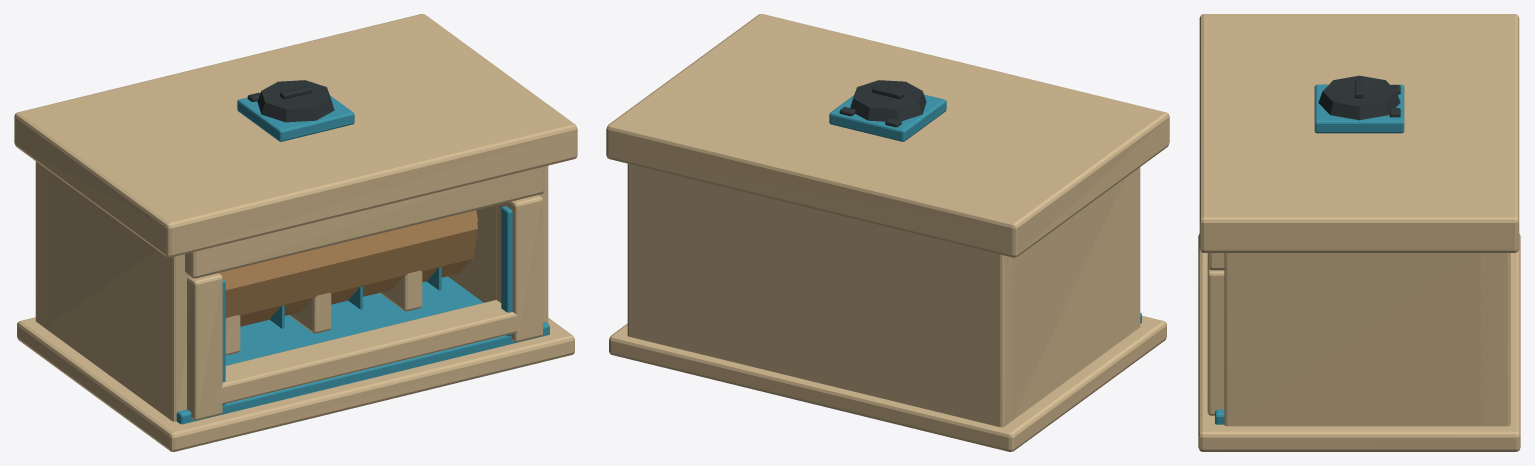
The model's file is cistern.source.glb.
3 views of the same model, side by side, from view 1: azimuth 30°, elevation 25°; view 2: azimuth 150°, elevation 25°; view 3: azimuth 270°, elevation 25° (orthographic). The views are drawn at different scales.
Parts seen in each view (by area): view 1: cistern-top-slab-mesh, cistern-left-wall-mesh, cistern-base-plinth-mesh, cistern-tank-vessel-mesh, cistern-reveal-sill-mesh, cistern-base-inset-mesh, cistern-front-lintel-mesh, cistern-left-reveal-pier-mesh, cistern-right-reveal-pier-mesh, cistern-right-wall-mesh, cistern-rear-wall-mesh, cistern-hatch-cap-mesh (+5 smaller); view 2: cistern-top-slab-mesh, cistern-rear-wall-mesh, cistern-left-wall-mesh, cistern-base-plinth-mesh, cistern-hatch-cap-mesh, cistern-hatch-curb-mesh; view 3: cistern-top-slab-mesh, cistern-right-wall-mesh, cistern-base-plinth-mesh, cistern-rear-wall-mesh, cistern-hatch-cap-mesh, cistern-right-reveal-pier-mesh, cistern-hatch-curb-mesh.
Boxes of the visible parts, left/top/right/bottom form: cistern-top-slab-mesh: left=14, top=14, right=577, bottom=257; cistern-left-wall-mesh: left=49, top=171, right=188, bottom=421; cistern-base-plinth-mesh: left=17, top=317, right=574, bottom=451; cistern-tank-vessel-mesh: left=219, top=210, right=477, bottom=326; cistern-reveal-sill-mesh: left=208, top=300, right=517, bottom=405; cistern-base-inset-mesh: left=176, top=276, right=549, bottom=424; cistern-front-lintel-mesh: left=185, top=166, right=544, bottom=278; cistern-left-reveal-pier-mesh: left=187, top=273, right=222, bottom=420; cistern-right-reveal-pier-mesh: left=496, top=195, right=542, bottom=342; cistern-right-wall-mesh: left=448, top=165, right=548, bottom=323; cistern-rear-wall-mesh: left=35, top=161, right=49, bottom=330; cistern-hatch-cap-mesh: left=257, top=80, right=334, bottom=122; cistern-top-slab-mesh: left=606, top=14, right=1169, bottom=257; cistern-rear-wall-mesh: left=627, top=163, right=1017, bottom=427; cistern-left-wall-mesh: left=1012, top=167, right=1140, bottom=420; cistern-base-plinth-mesh: left=609, top=316, right=1166, bottom=451; cistern-hatch-cap-mesh: left=850, top=80, right=926, bottom=121; cistern-hatch-curb-mesh: left=829, top=94, right=946, bottom=141; cistern-top-slab-mesh: left=1199, top=14, right=1519, bottom=252; cistern-right-wall-mesh: left=1224, top=253, right=1491, bottom=426; cistern-base-plinth-mesh: left=1198, top=233, right=1520, bottom=451; cistern-rear-wall-mesh: left=1480, top=253, right=1510, bottom=426; cistern-hatch-cap-mesh: left=1318, top=75, right=1400, bottom=120; cistern-right-reveal-pier-mesh: left=1207, top=266, right=1224, bottom=415; cistern-hatch-curb-mesh: left=1314, top=84, right=1404, bottom=133.
Bounding box in the file's own units: 3.98 × 2.38 × 2.62.
